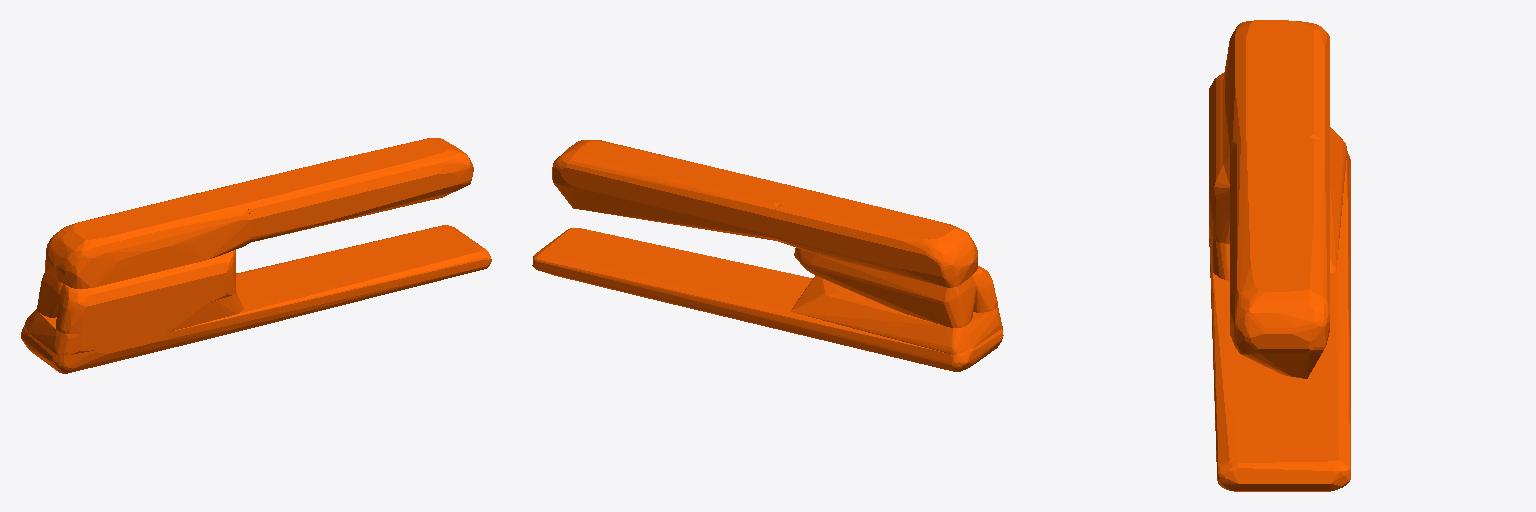
URDF robot description (Stapler):
<?xml version="1.0" ?>
<robot name="Stapler">
   <material name="obj_color">
      <color rgba="1.0 0.423529411765 0.0392156862745 1.0"/>
   </material>
   <link name="top">
      <inertial>
         <origin rpy="0.0001757825601190067 0.001483055060346539 0.001586227981666613" xyz="-0.01560680130331783 -0.0009256253946910544 -0.0009664813963089237"/>
         <mass value="0.4441411422137458"/>
         <inertia ixx="0.0001775057541800552" ixy="-2.482981737167985e-05" ixz="-4.097635459493791e-05" iyy="0.001585788247237298" iyz="-2.577038169782008e-07" izz="0.001481771600714806"/>
      </inertial>
      <visual>
         <origin rpy="0 0 0" xyz="0 0 0"/>
         <geometry>
            <mesh filename="top_watertight_tiny.obj" scale="1 1 1"/>
         </geometry>
         <material name="obj_color"/>
      </visual>
      <collision>
         <origin rpy="0 0 0" xyz="0 0 0"/>
         <geometry>
            <mesh filename="top_watertight_tiny.obj" scale="1 1 1"/>
         </geometry>
      </collision>
   </link>
</robot>

--- Render facts (derived) ---
Views: 3 orthographic renders of the robot side by side, from view 1: azimuth 30°, elevation 25°; view 2: azimuth 150°, elevation 25°; view 3: azimuth 270°, elevation 25°.
Robot: Stapler — 1 links, 0 joints (none); root link top; default pose: all joints at 0.
Visible links, largest first — view 1: top; view 2: top; view 3: top.
Boxes of the visible links, <box> form: top: <box>21,138,491,373</box>; top: <box>532,140,1003,371</box>; top: <box>1209,20,1350,491</box>.
Size in the robot's own frame: 0.2088 by 0.0386 by 0.0545 metres.
Meshes: 1 distinct files referenced, 1 mesh visuals loaded (1 OBJ).